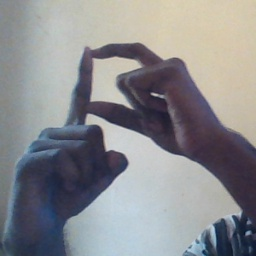D: (52, 33, 185, 166)
